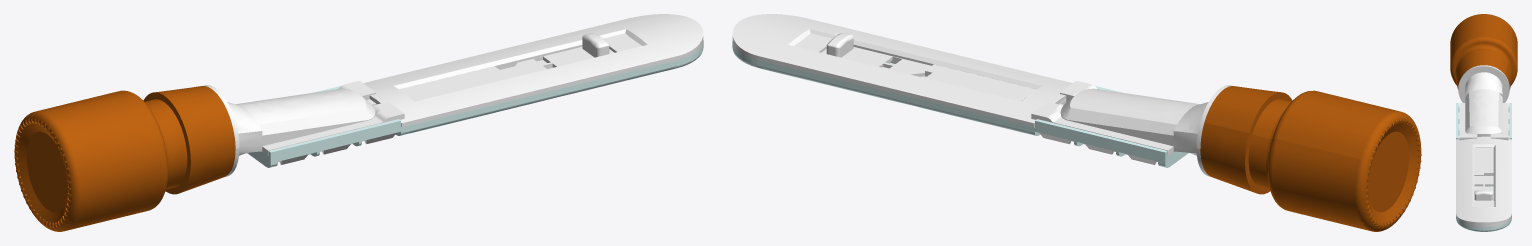
3 renders of one model, left to right at view 1: azimuth 30°, elevation 25°; view 2: azimuth 150°, elevation 25°; view 3: azimuth 270°, elevation 25°, orthographic. The views are drawn at different scales.
Bounding box in the file's own units: 20.1 × 3.28 × 3.28.
